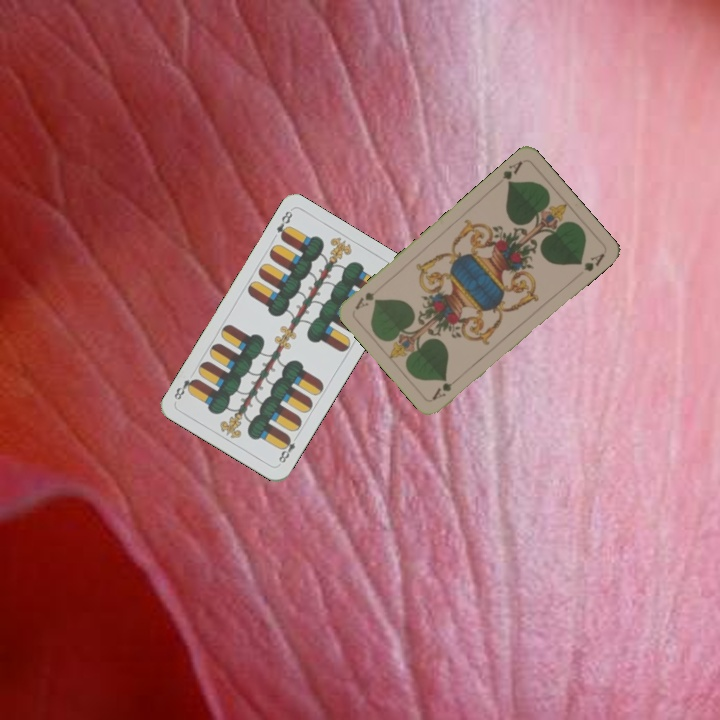E8: (275, 431, 301, 466), (272, 207, 295, 242)
GA: (498, 157, 525, 187), (428, 378, 454, 403)
